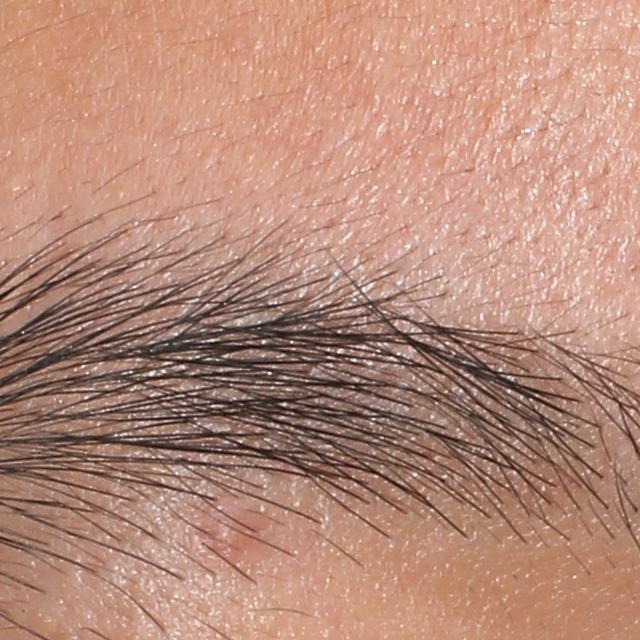papule: (207, 504, 269, 560)
